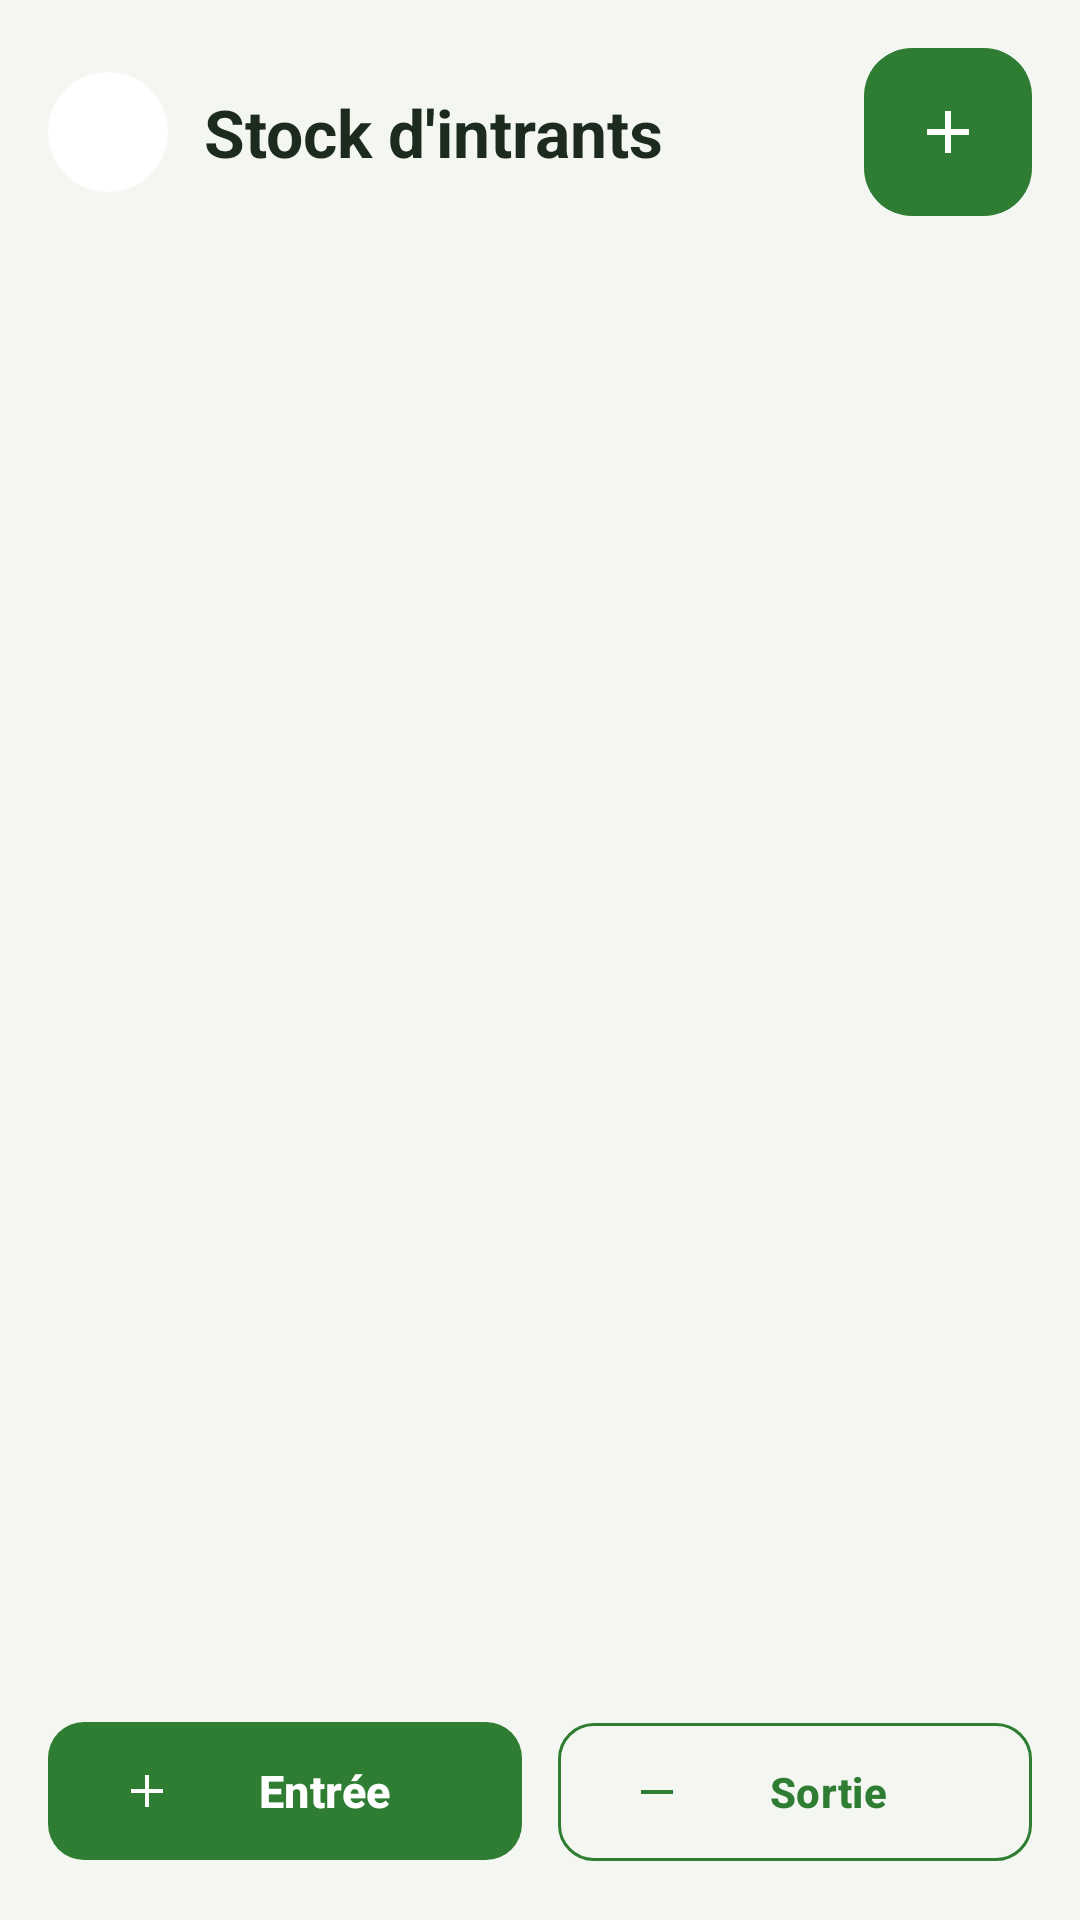

Screen size 1080 x 1920. Icon name, then its center in pixels as (x,y):
Nouvel article: (948,132)
